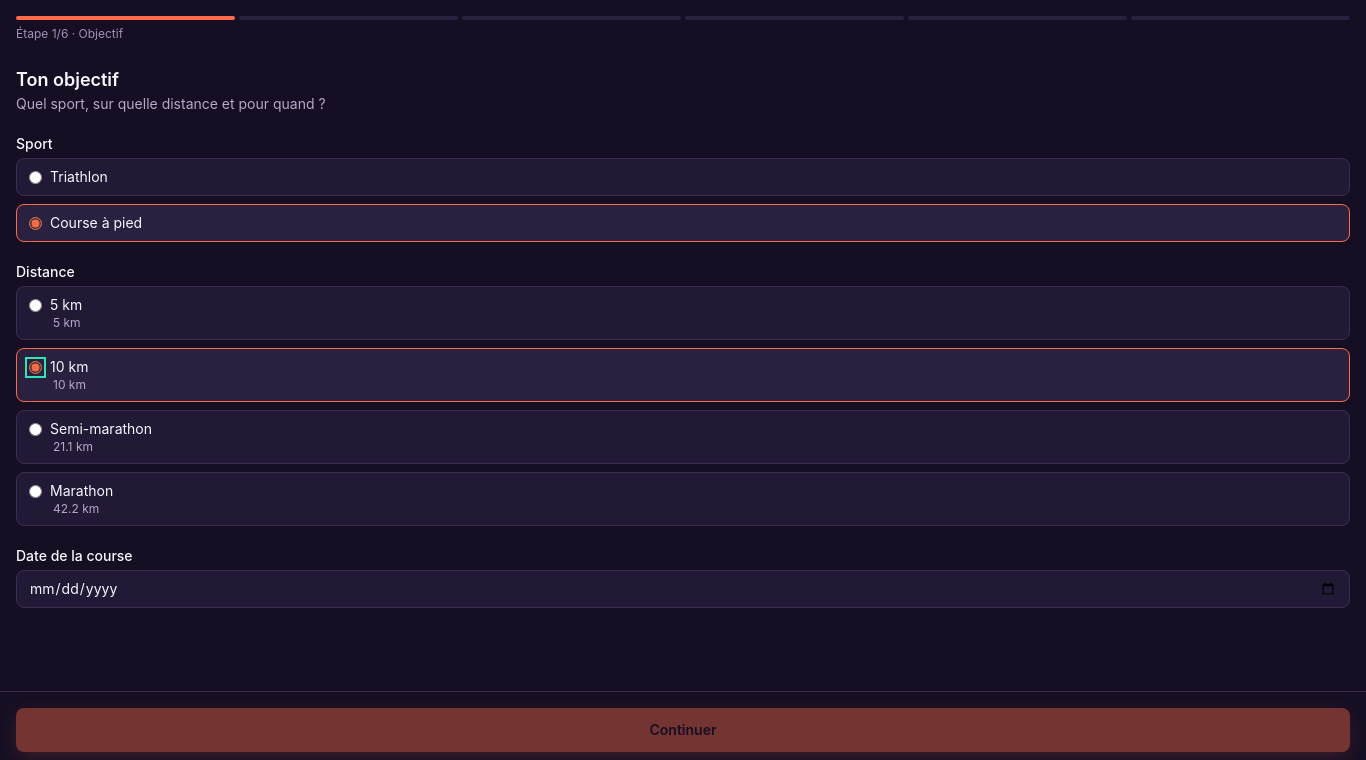
Scenario: OnboardingPage › walks a full happy path for a running race goal and generates a running-only plan
The image size is (1366, 760).
Earlier steps of the test are not shown.
Later steps or results of the test are not shown.
Type "2026-12-01" into the date field labelled "Date de la course" at (683, 589), box 16,570 -> 1350,608
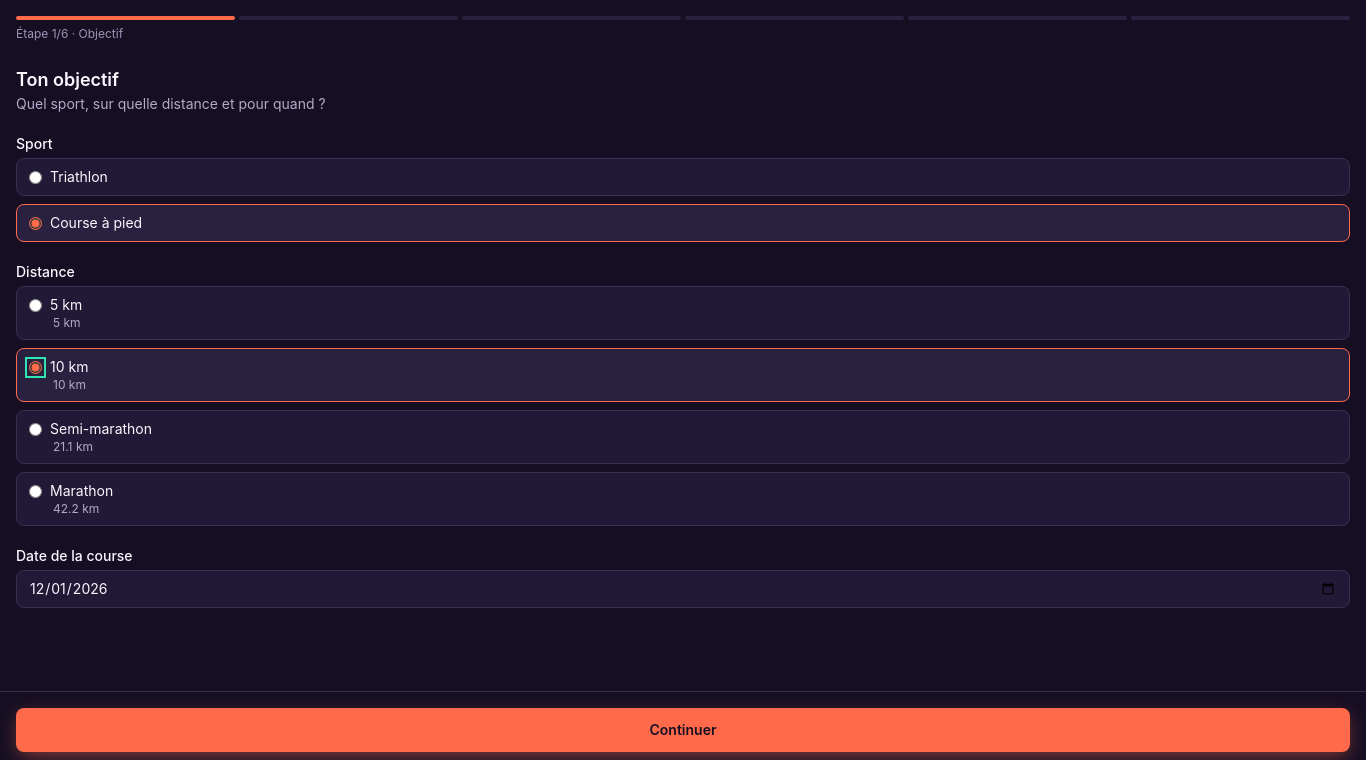
Click the button "Continuer" at (683, 730), box 16,708 -> 1350,752
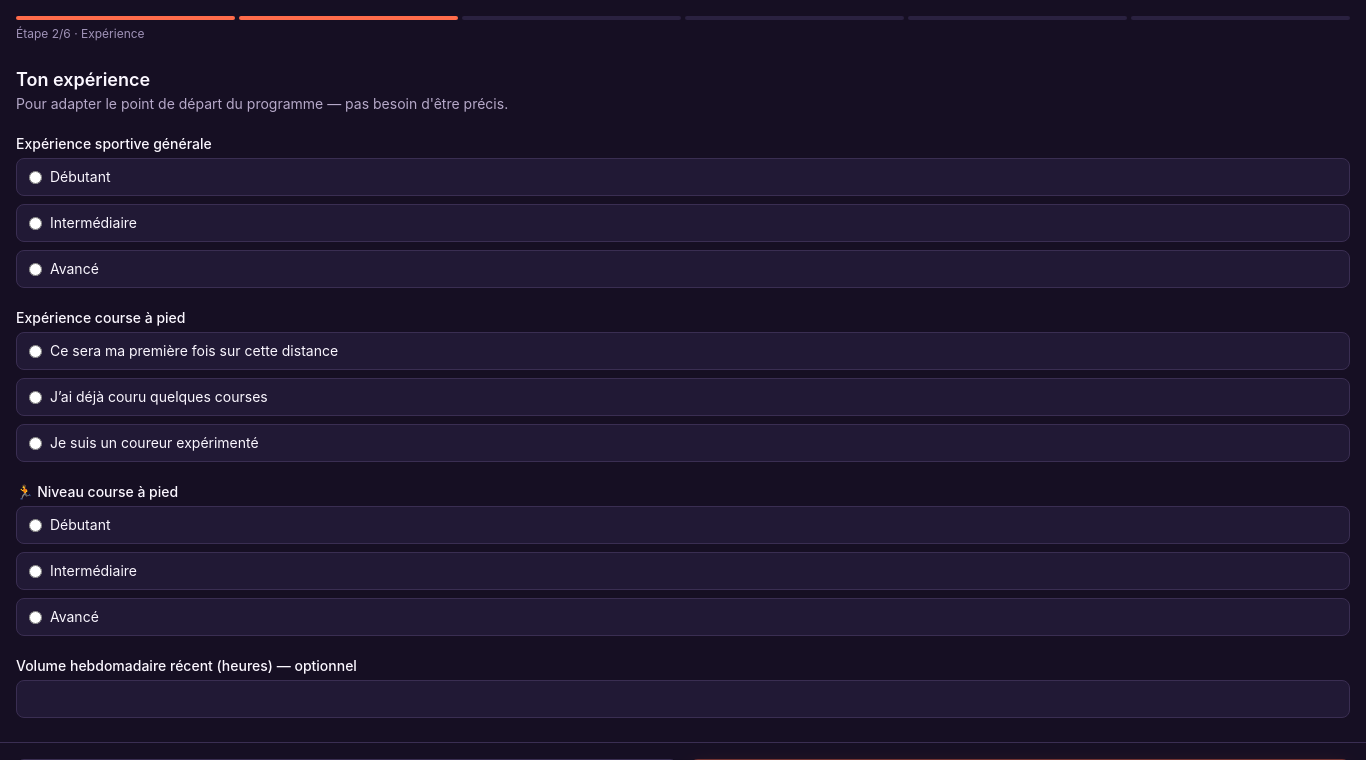
Expected: the number of radio buttons labelled "Intermédiaire" is 2
Click the radio button labelled "Intermédiaire" below "Expérience sportive générale" at (36, 223), box 29,216 -> 42,230
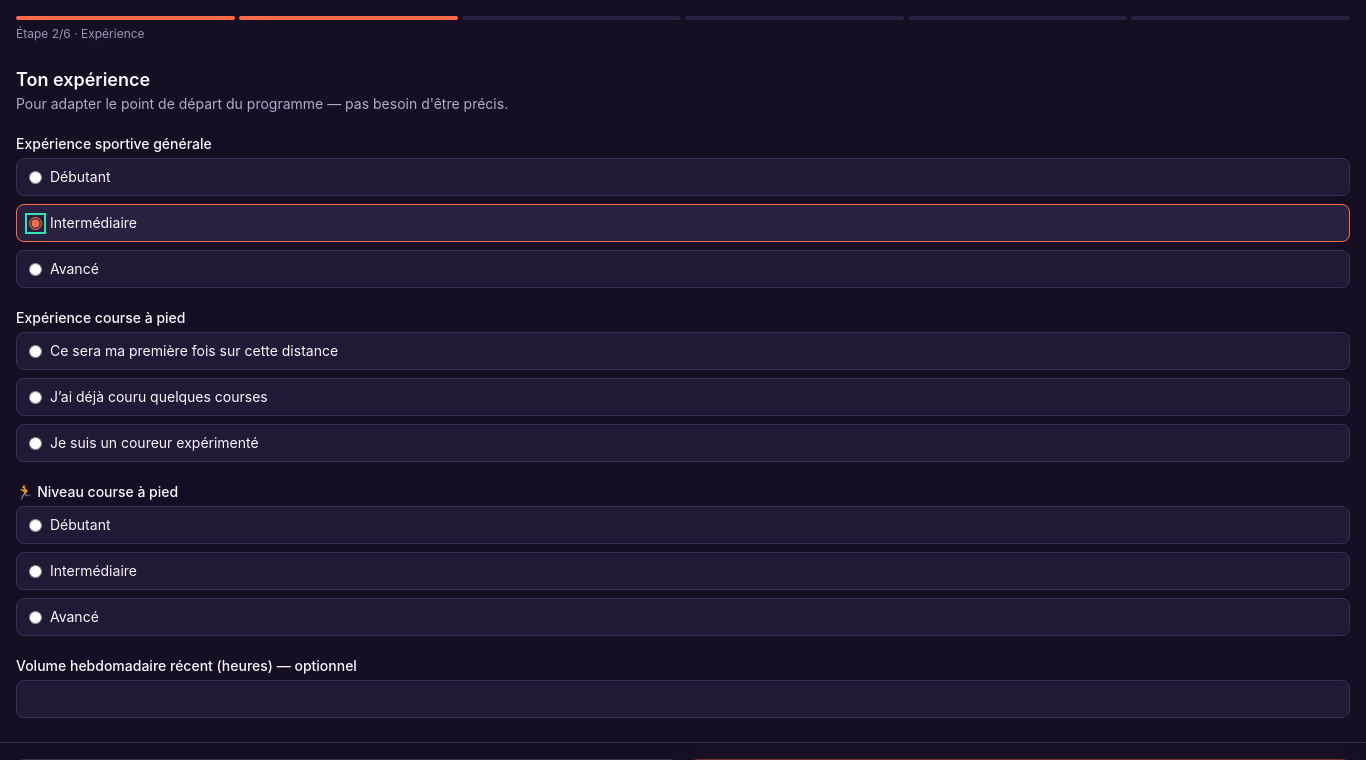
Click the radio button labelled "Intermédiaire" below "🏃 Niveau course à pied" at (36, 571), box 29,564 -> 42,578
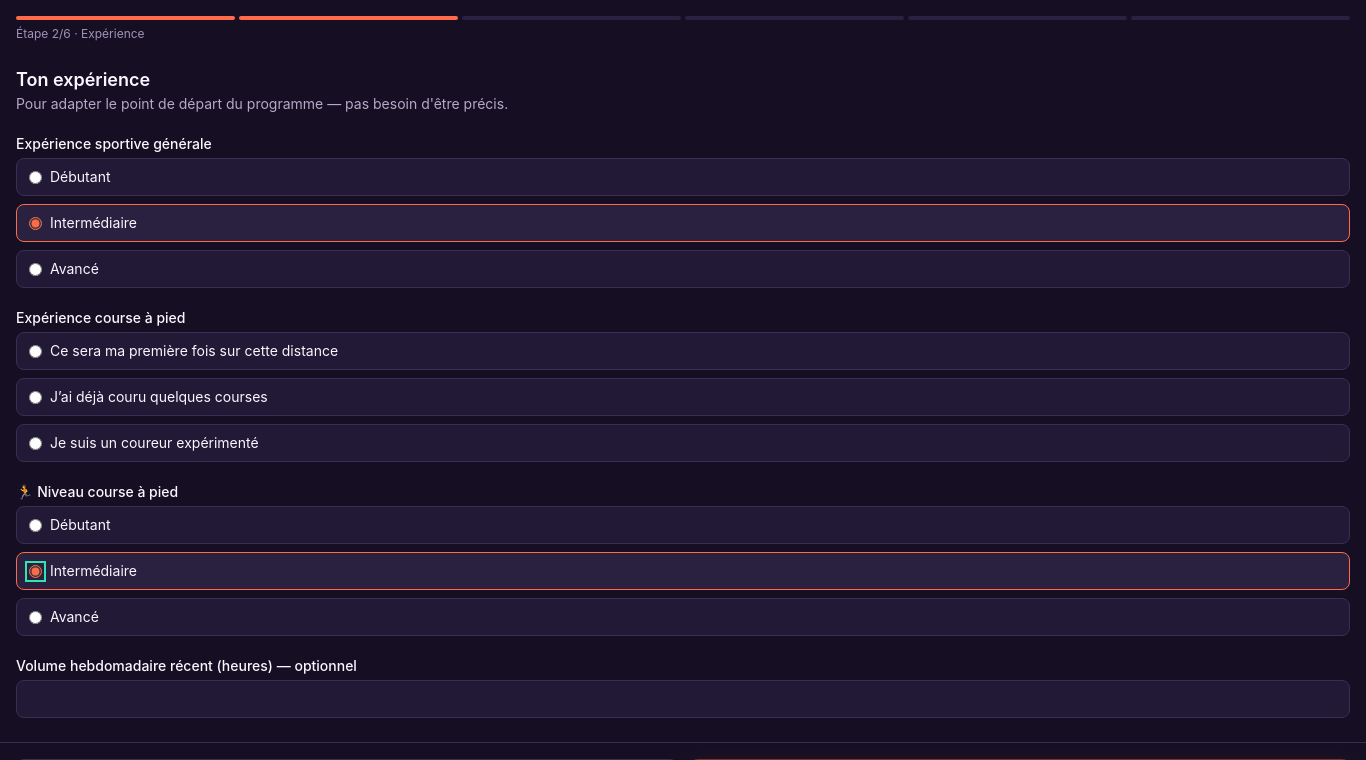
Click the radio button labelled "J’ai déjà couru quelques courses" at (36, 397), box 29,390 -> 42,404
(page scrolled)
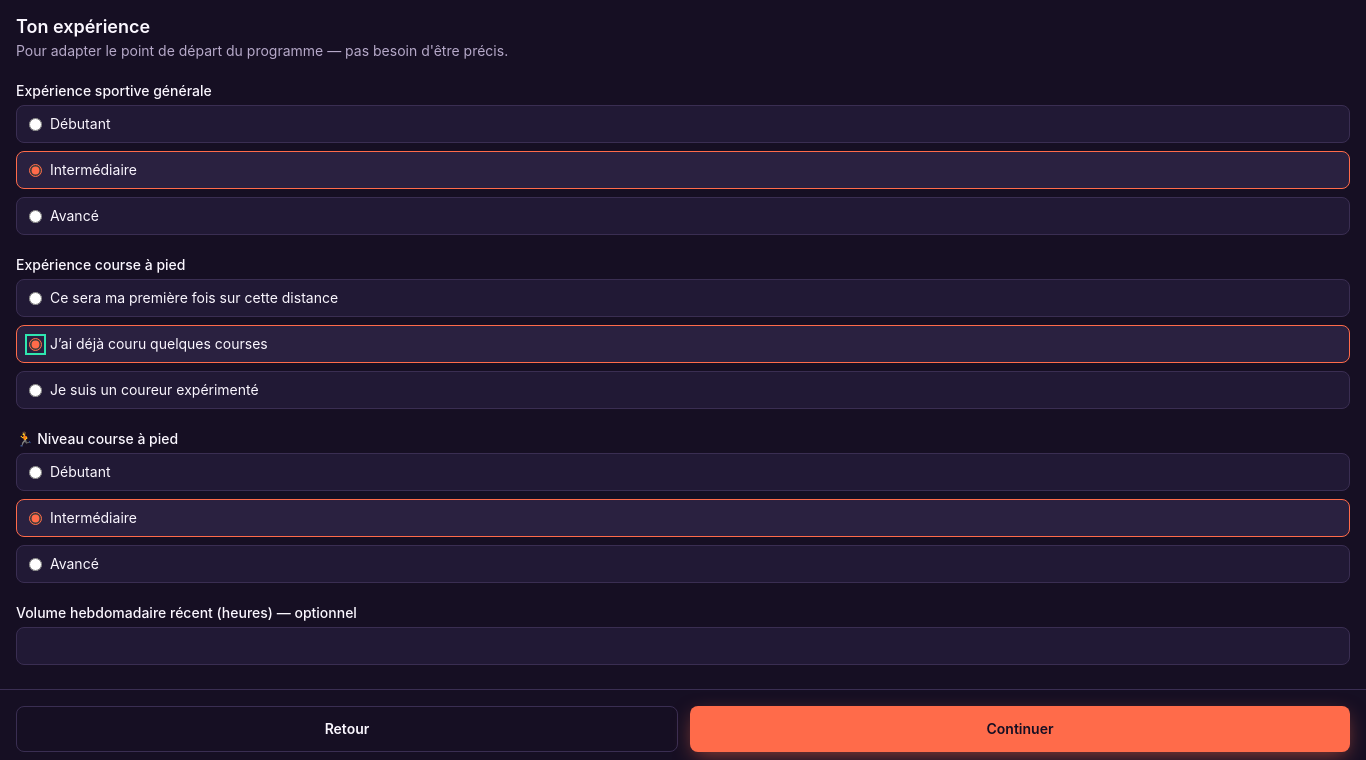
Click the button "Continuer" at (1020, 729), box 690,706 -> 1350,752
(page scrolled)
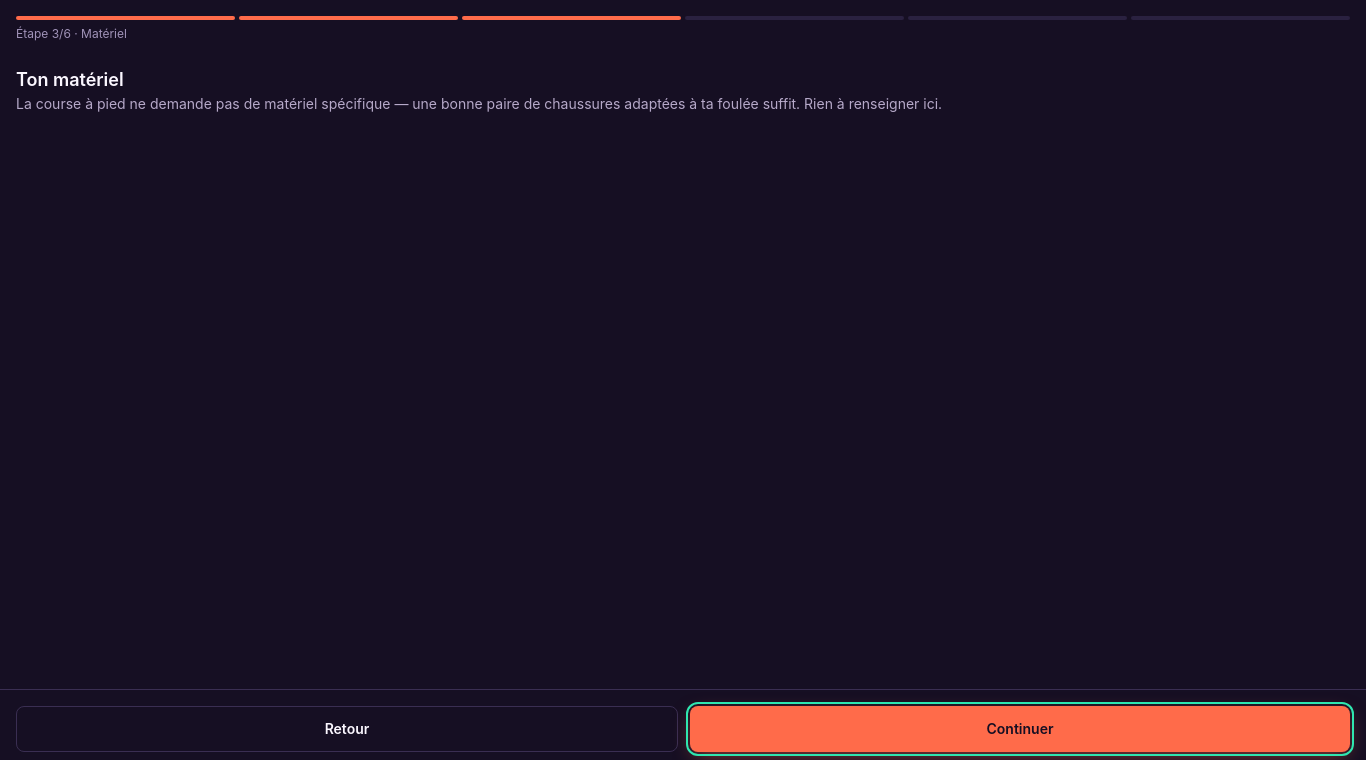
Expected: the text "ne demande pas de matériel spécifique" is shown, 16,95 -> 942,112
